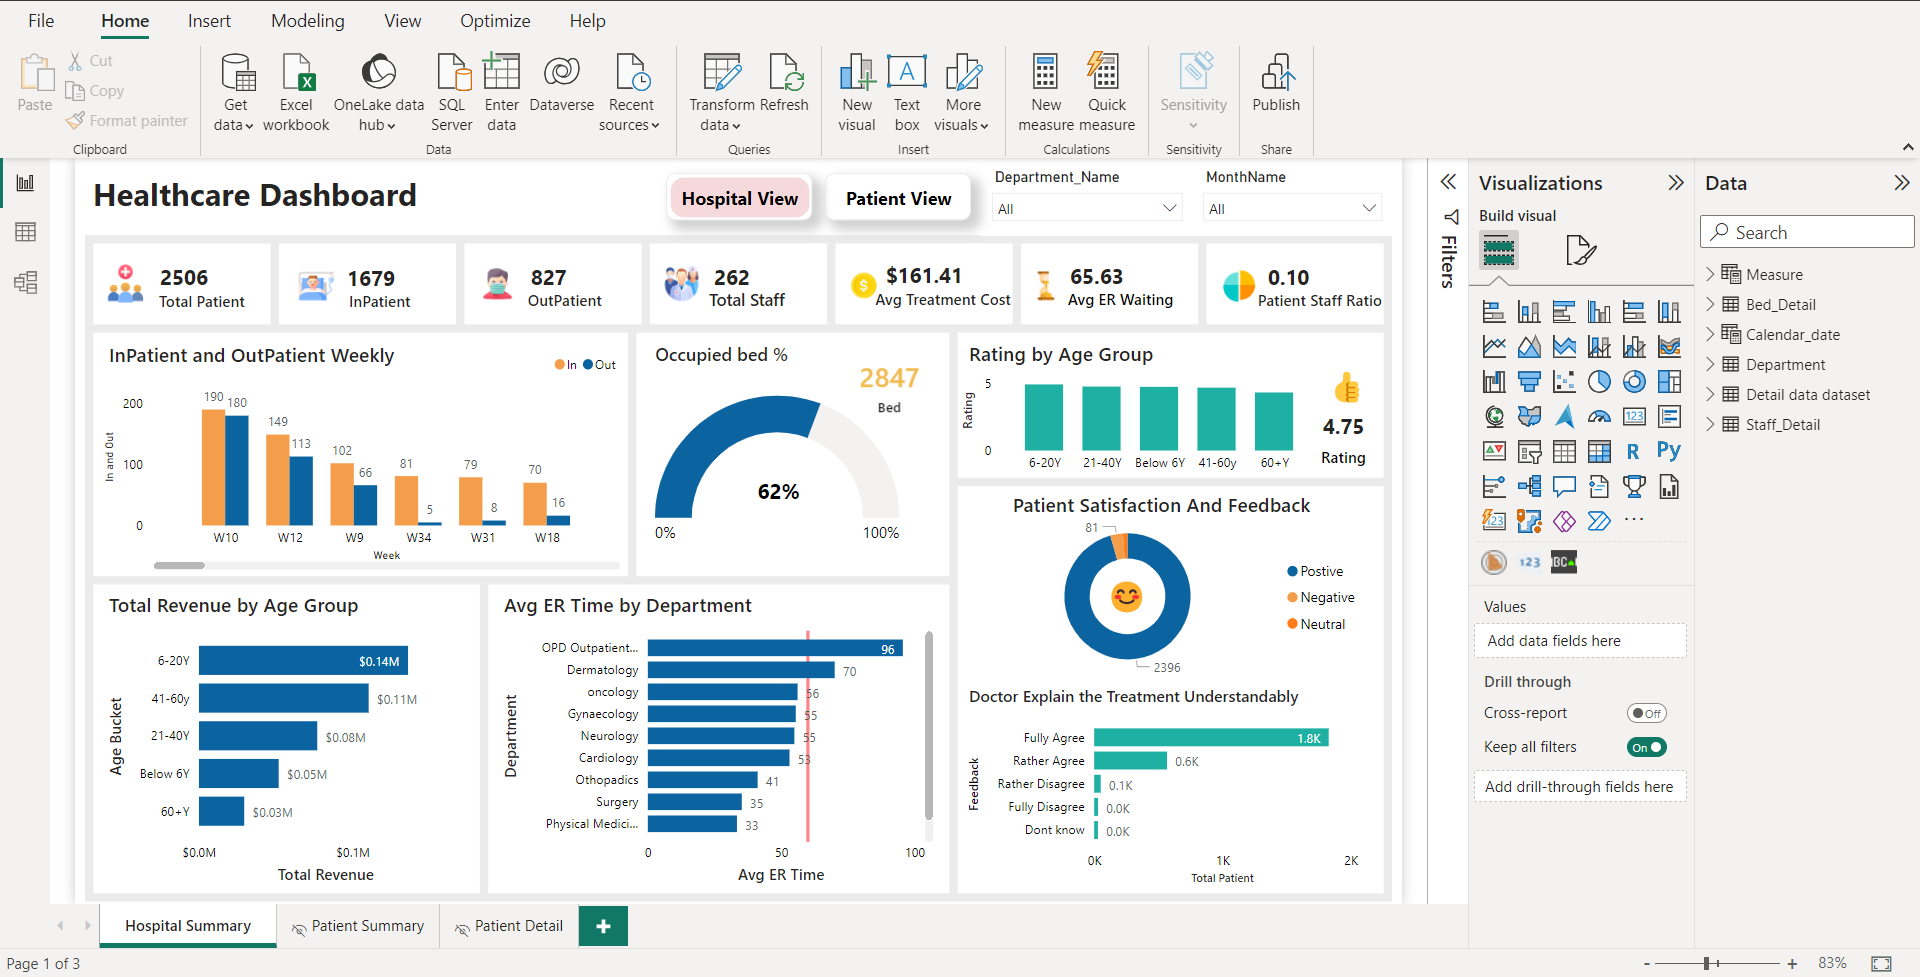

The dashboard page shown, as its layout file describes it:
{"tool":"powerbi","page":{"name":"Hospital Summary","canvas":[1280,720],"ordinal":0},"visuals":[{"type":"card","fields":{"Values":["Measure.Total Patient"]},"box":[68.7,98.9,72.8,35.7],"z":0},{"type":"card","fields":{"Values":["Measure.In Patient"]},"box":[247.2,100.3,76.9,34.3],"z":1000},{"type":"card","fields":{"Values":["Measure.Outpatient"]},"box":[427.1,98.9,60.4,35.7],"z":2000},{"type":"clusteredColumnChart","fields":{"Y":["Calendar_date.In Patient","Calendar_date.Outpatient"],"Category":["Calendar_date.WeekName"]},"box":[22.9,180,508.6,222.9],"z":3000},{"type":"clusteredBarChart","title":"Total Revenue by Age Group","fields":{"Y":["Measure.Total Revenue"],"Category":["Detail data dataset.Age Bucket"]},"box":[27.1,418.6,358.6,287.1],"z":4000},{"type":"barChart","fields":{"Y":["Measure.Avg ER Time"],"Category":["Department.Department_Name"]},"box":[408.6,418.6,424.3,287.1],"z":5000},{"type":"gauge","fields":{"Y":["Bed_Detail.Occupied bed %"]},"box":[554.3,177.1,245.7,230],"z":6000},{"type":"textbox","title":"Patient Satisfaction And Feedback ","box":[887.1,321.4,321.4,27.1],"z":7000},{"type":"donutChart","fields":{"Y":["Measure.Total Patient"],"Category":["Detail data dataset.FZ me"]},"box":[857.1,338.6,391.4,168.6],"z":8000},{"type":"barChart","title":"Doctor Explain the Treatment Understandably","fields":{"Y":["Measure.Total Patient"],"Category":["Detail data dataset.Feedback"]},"box":[857.1,507.1,391.4,198.6],"z":9000},{"type":"card","fields":{"Values":["Measure.Rating"]},"box":[1171.4,232.9,105.7,74.3],"z":10000},{"type":"card","fields":{"Values":["Bed_Detail.Thumb"]},"box":[1174.3,195.7,105.7,51.4],"z":11000},{"type":"columnChart","fields":{"Y":["Measure.Rating"],"Category":["Detail data dataset.Age Bucket"]},"box":[851.4,190,352.9,121.4],"z":12000},{"type":"textbox","title":"Rating by Age Group","box":[857.1,175.7,317.1,34.3],"z":13000},{"type":"card","fields":{"Values":["Measure.Avg Treatment Cost"]},"box":[761.4,95.7,117.1,38.6],"z":14000},{"type":"card","fields":{"Values":["Bed_Detail.total Staff"]},"box":[594.3,98.6,78.6,35.7],"z":15000},{"type":"card","fields":{"Values":["Measure.Avg ER Time"]},"box":[940,101.4,92.9,28.6],"z":16000},{"type":"card","fields":{"Values":["Bed_Detail.Patient Staff Ratio"]},"box":[1135.7,97.1,70,38.6],"z":17000},{"type":"slicer","fields":{"Values":["Calendar_date.MonthName"]},"box":[1078.6,4.3,192.9,70],"z":18000},{"type":"slicer","fields":{"Values":["Department.Department_Name"]},"box":[874.3,4.3,204.3,70],"z":19000},{"type":"card","fields":{"Values":["Bed_Detail.emzz"]},"box":[984.3,397.1,61.4,52.9],"z":20000},{"type":"textbox","title":"Total Patient","box":[75.5,127.7,104.4,19.2],"z":21000},{"type":"textbox","title":"InPatient","box":[259.6,127.7,104.4,19.2],"z":22000},{"type":"textbox","title":"OutPatient","box":[431.4,127.1,85.7,20],"z":23000},{"type":"textbox","title":"Total Staff","box":[607,125,87.9,22],"z":24000},{"type":"textbox","title":"Avg Treatment Cost","box":[767.1,125.7,148.6,20],"z":25000},{"type":"textbox","title":"Avg ER Waiting ","box":[952.9,125.7,124.3,21.4],"z":26000},{"type":"textbox","title":"Patient Staff Ratio","box":[1135.7,127.1,134.3,21.4],"z":27000},{"type":"textbox","title":"InPatient and OutPatient Weekly","box":[27.1,177.1,322.9,28.6],"z":28000},{"type":"card","fields":{"Values":["Bed_Detail.Occupied bed %"]},"box":[641.4,295.7,74.3,55.7],"z":29000},{"type":"rotatingTile1859AB39DB23400988ADF752BCB9C967","fields":{"measureData":["CountNonNull(Bed_Detail.Bed Number)","Measure.Occupied Bed","Bed_Detail.Available Bed"]},"box":[730,184.3,112.9,74.3],"z":30000},{"type":"textbox","title":"Healthcare Dashboard","box":[12.5,14.1,388.9,48.4],"z":31000},{"type":"actionButton","box":[570.1,14.7,140.6,45.3],"z":32000},{"type":"actionButton","box":[723.1,14.7,140.6,45.3],"z":33000}]}

Visuals, with their boxes on the page's 1280x720 design canvas (x1, y1, x2, y2). These are canvas units, not pixel positions in the 1920x977 screenshot, which may show the page scaled, cropped or inside an application window:
card - Measure.Total Patient: rect(69, 99, 142, 135)
card - Measure.In Patient: rect(247, 100, 324, 135)
card - Measure.Outpatient: rect(427, 99, 488, 135)
clusteredColumnChart - Calendar_date.In Patient x Calendar_date.Outpatient: rect(23, 180, 532, 403)
"Total Revenue by Age Group" clusteredBarChart: rect(27, 419, 386, 706)
barChart - Measure.Avg ER Time x Department.Department_Name: rect(409, 419, 833, 706)
gauge - Bed_Detail.Occupied bed %: rect(554, 177, 800, 407)
"Patient Satisfaction And Feedback " textbox: rect(887, 321, 1208, 348)
donutChart - Measure.Total Patient x Detail data dataset.FZ me: rect(857, 339, 1248, 507)
"Doctor Explain the Treatment Understandably" barChart: rect(857, 507, 1248, 706)
card - Measure.Rating: rect(1171, 233, 1277, 307)
card - Bed_Detail.Thumb: rect(1174, 196, 1280, 247)
columnChart - Measure.Rating x Detail data dataset.Age Bucket: rect(851, 190, 1204, 311)
"Rating by Age Group" textbox: rect(857, 176, 1174, 210)
card - Measure.Avg Treatment Cost: rect(761, 96, 878, 134)
card - Bed_Detail.total Staff: rect(594, 99, 673, 134)
card - Measure.Avg ER Time: rect(940, 101, 1033, 130)
card - Bed_Detail.Patient Staff Ratio: rect(1136, 97, 1206, 136)
slicer - Calendar_date.MonthName: rect(1079, 4, 1272, 74)
slicer - Department.Department_Name: rect(874, 4, 1079, 74)
card - Bed_Detail.emzz: rect(984, 397, 1046, 450)
"Total Patient" textbox: rect(76, 128, 180, 147)
"InPatient" textbox: rect(260, 128, 364, 147)
"OutPatient" textbox: rect(431, 127, 517, 147)
"Total Staff" textbox: rect(607, 125, 695, 147)
"Avg Treatment Cost" textbox: rect(767, 126, 916, 146)
"Avg ER Waiting " textbox: rect(953, 126, 1077, 147)
"Patient Staff Ratio" textbox: rect(1136, 127, 1270, 148)
"InPatient and OutPatient Weekly" textbox: rect(27, 177, 350, 206)
card - Bed_Detail.Occupied bed %: rect(641, 296, 716, 351)
rotatingTile1859AB39DB23400988ADF752BCB9C967 - CountNonNull(Bed_Detail.Bed Number) x Measure.Occupied Bed: rect(730, 184, 843, 259)
"Healthcare Dashboard" textbox: rect(12, 14, 401, 62)
actionButton: rect(570, 15, 711, 60)
actionButton: rect(723, 15, 864, 60)
